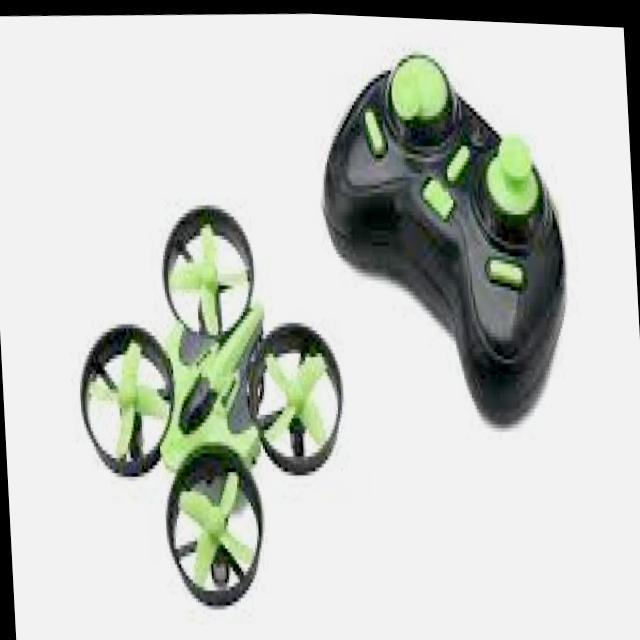drone: (64, 180, 363, 633)
